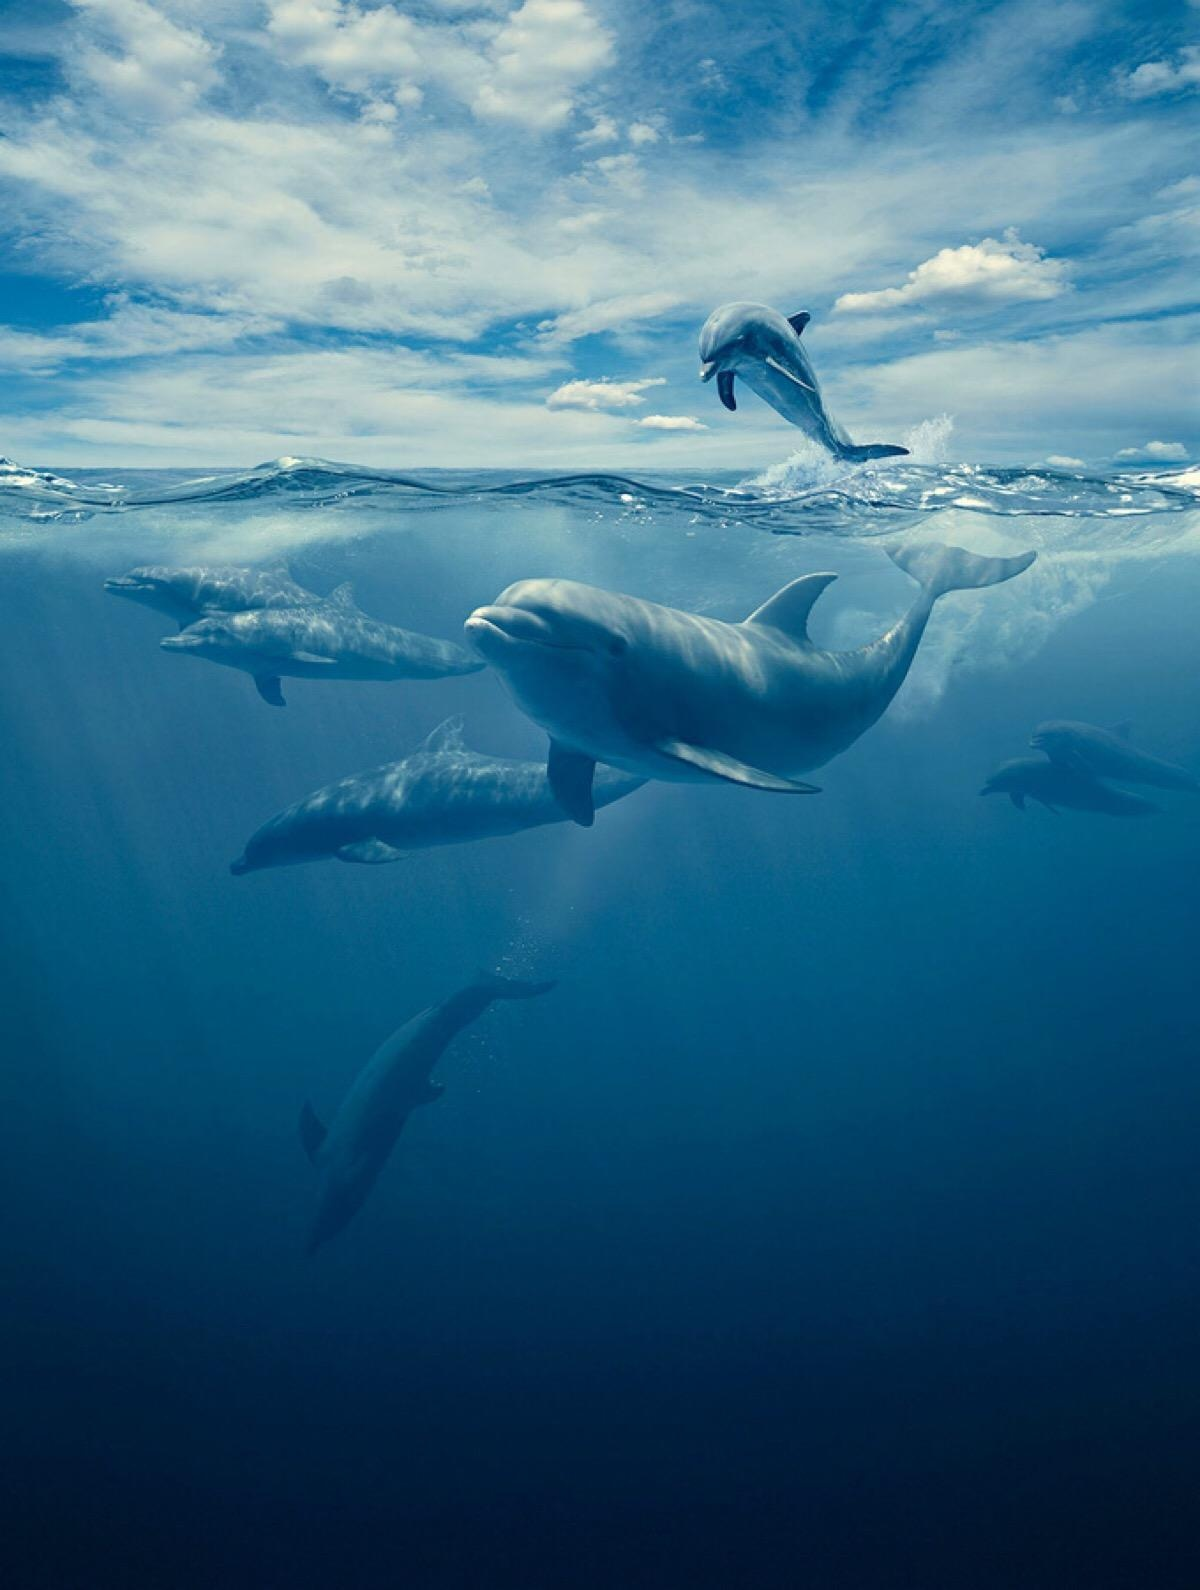fish: (456, 535, 1018, 809), (284, 954, 571, 1266), (231, 714, 632, 895), (158, 575, 494, 706), (684, 289, 921, 474), (979, 748, 1168, 833), (1032, 708, 1200, 791), (105, 553, 339, 611)
